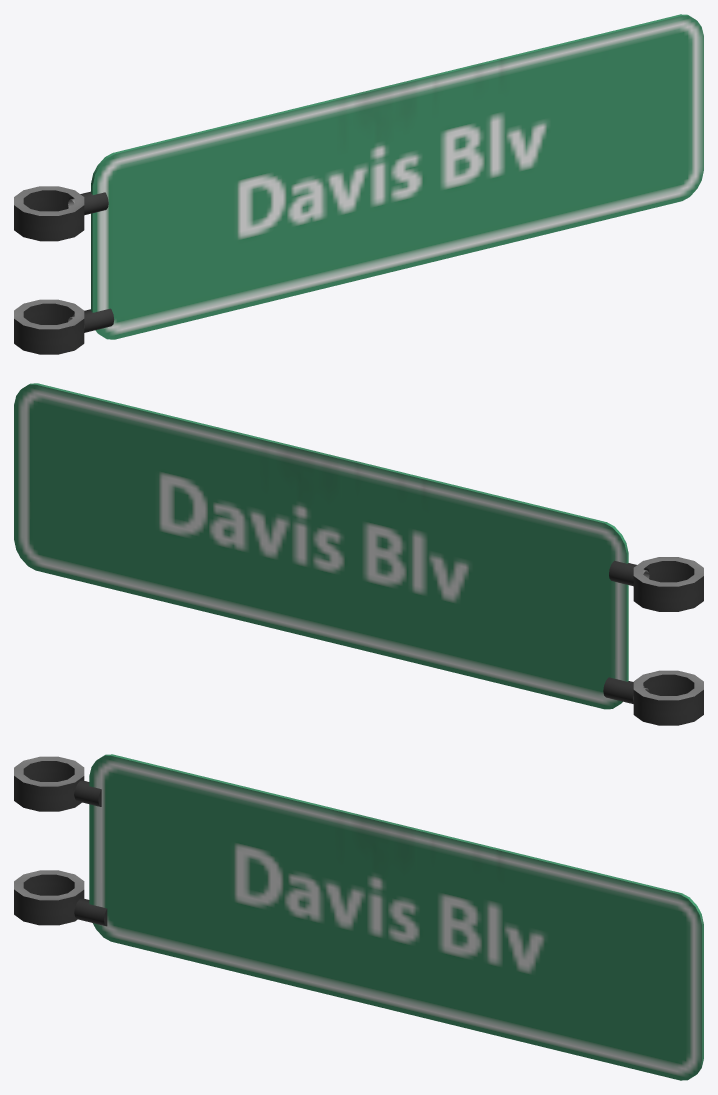
The model's file is Sign_St_Davis.fbx.
The picture shows the model from 3 angles, top to bottom: view 1: azimuth 30°, elevation 25°; view 2: azimuth 150°, elevation 25°; view 3: azimuth 330°, elevation 25°; orthographic projection.
Parts seen in each view (by area): view 1: Sign_St_Davis; view 2: Sign_St_Davis; view 3: Sign_St_Davis.
Part boxes in pixels (x1,y1,x2,y2): Sign_St_Davis: [14, 14, 703, 354]; Sign_St_Davis: [14, 383, 703, 725]; Sign_St_Davis: [14, 754, 703, 1080].
Size of the model in its own units: 158 by 40.91 by 14.06.
